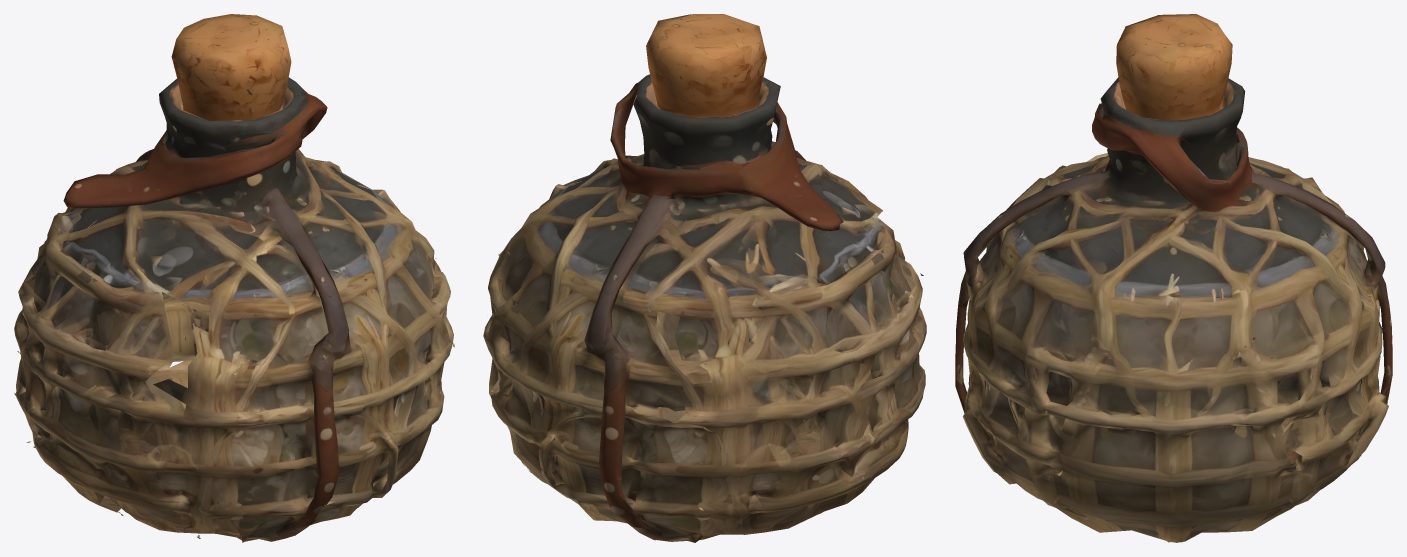
The model's file is flask_tripo.glb.
The picture shows the model from 3 angles, left to right: view 1: azimuth 30°, elevation 25°; view 2: azimuth 150°, elevation 25°; view 3: azimuth 270°, elevation 25°; orthographic projection.
Visible parts, largest first — view 1: potion bottle 3d model; view 2: potion bottle 3d model; view 3: potion bottle 3d model.
Boxes of the visible parts, x1,y1,x2,y2 form: potion bottle 3d model: (14, 14, 454, 542); potion bottle 3d model: (483, 14, 926, 542); potion bottle 3d model: (955, 14, 1392, 542).
Size of the model in its own units: 0.8253 by 0.9779 by 0.822.
1 material, 1 textured.
